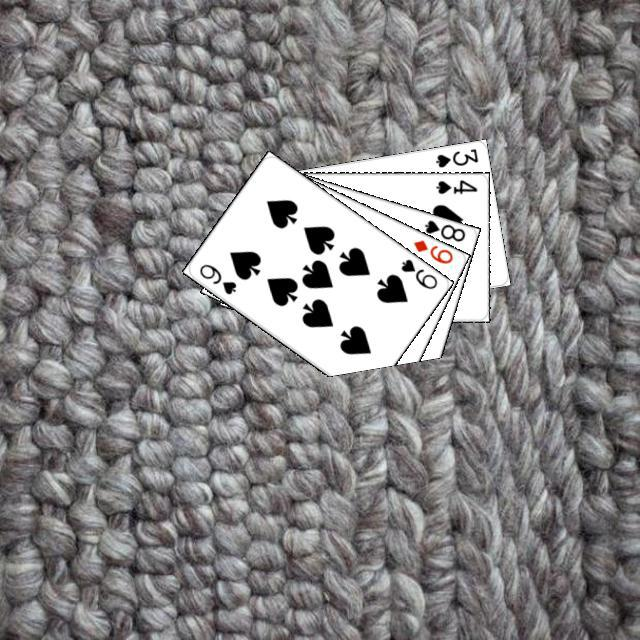3s: (430, 144, 480, 169)
4s: (431, 175, 479, 196)
8s: (420, 215, 467, 243)
9d: (408, 235, 455, 266)
9s: (194, 259, 238, 296), (396, 254, 439, 291)
